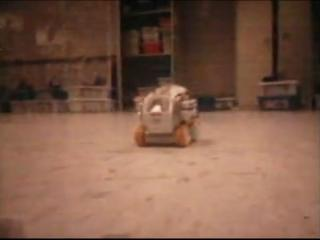cozmo: (133, 82, 200, 147)
